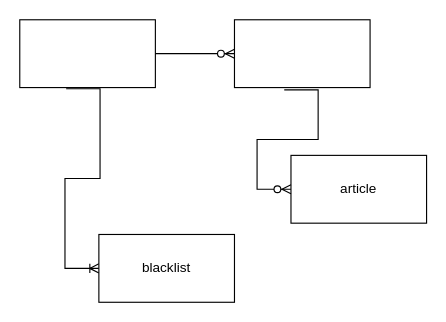
The diagram is 446 pixels wide and 322 high, and some of its shapes have lost their labels. Each missing label, with the centre of its shape:
"project" belongs at (x=301, y=53).
"user" belongs at (x=87, y=53).
